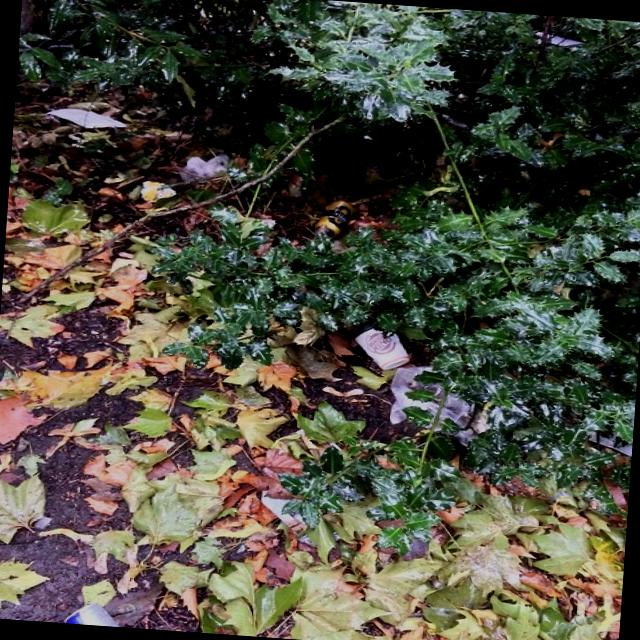Recycle: (350, 316, 418, 371), (314, 192, 357, 248)
Trash: (382, 368, 584, 462), (172, 148, 262, 188), (43, 97, 131, 133)
